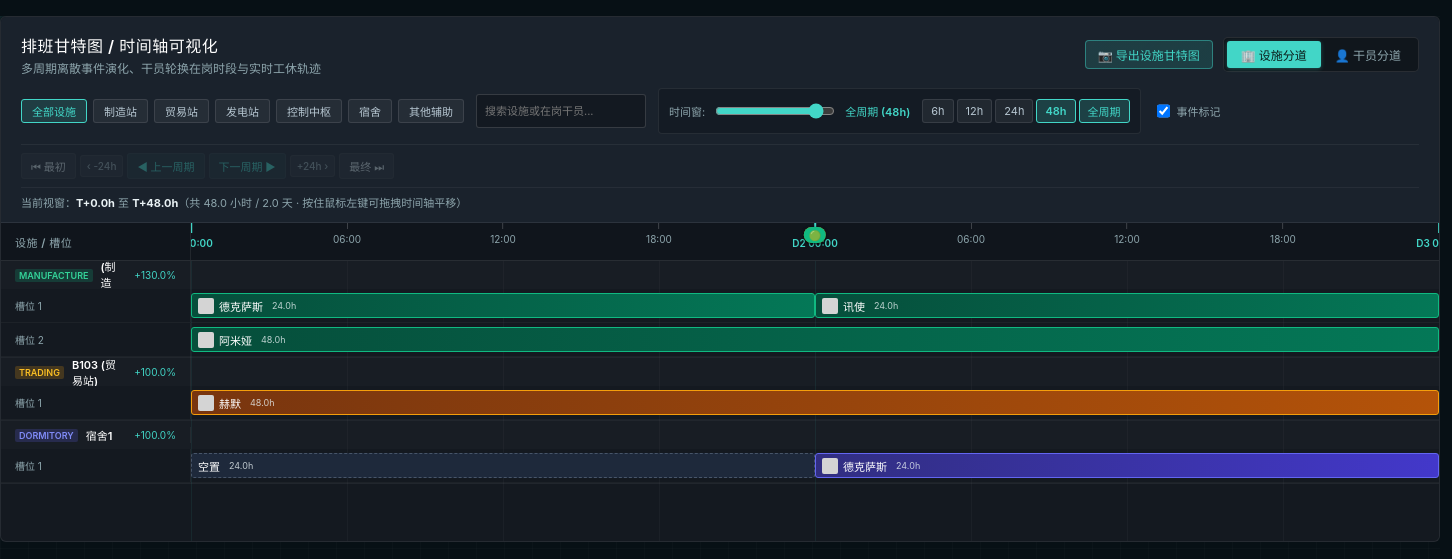
Test case: ScheduleTimelineGantt.vue › switches between facility view and operator view
Expected: the element with class "facility-group" that starts with "manufacture" is shown, [1,261,1439,358]
Switch to operator view
Click the button with test id "view-mode-operator" at [1368, 54], box [1321,41,1415,68]
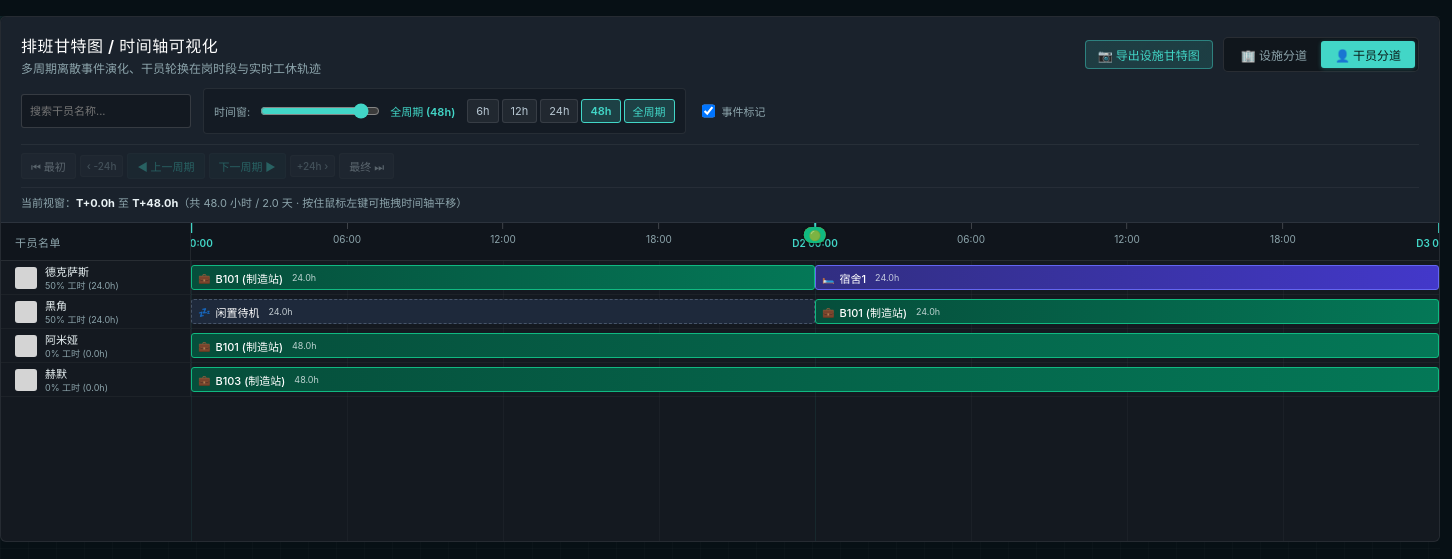
Expected: no elements with class "facility-group" are shown
Expected: the element with class "operator-track-row" that starts with "德克萨斯" is shown, [1,261,1439,295]
Switch back to facility view
Click the button with test id "view-mode-facility" at [1274, 54], box [1227,41,1321,68]
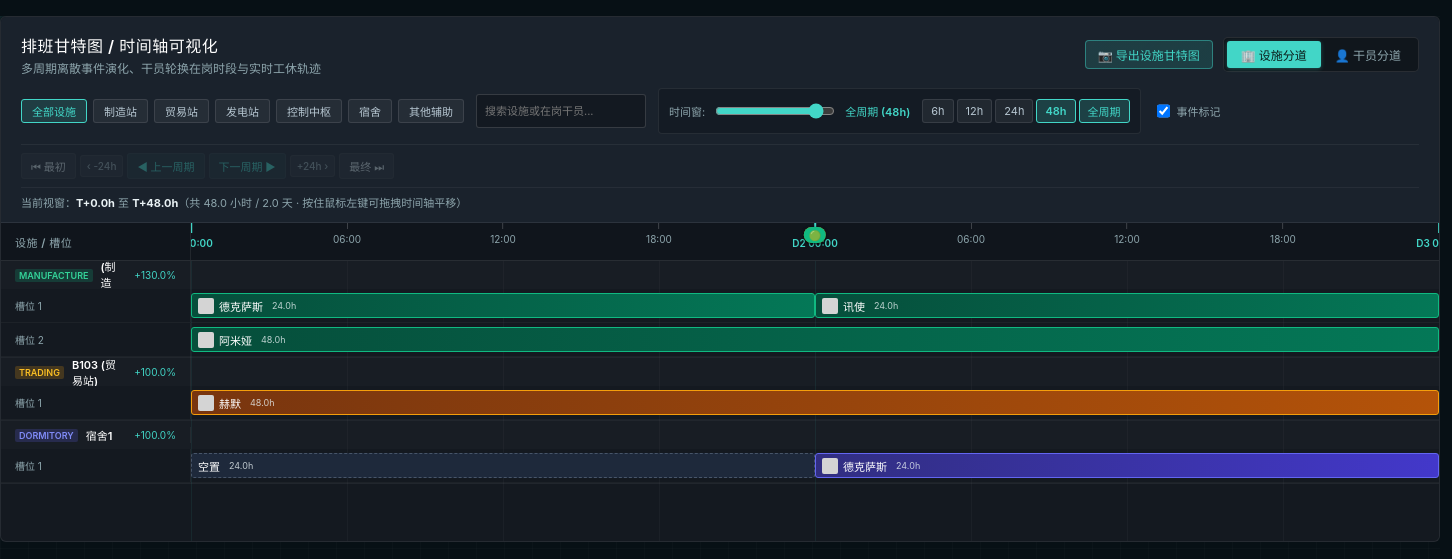
Expected: the element with class "facility-group" that starts with "manufacture" is shown, [1,261,1439,358]
